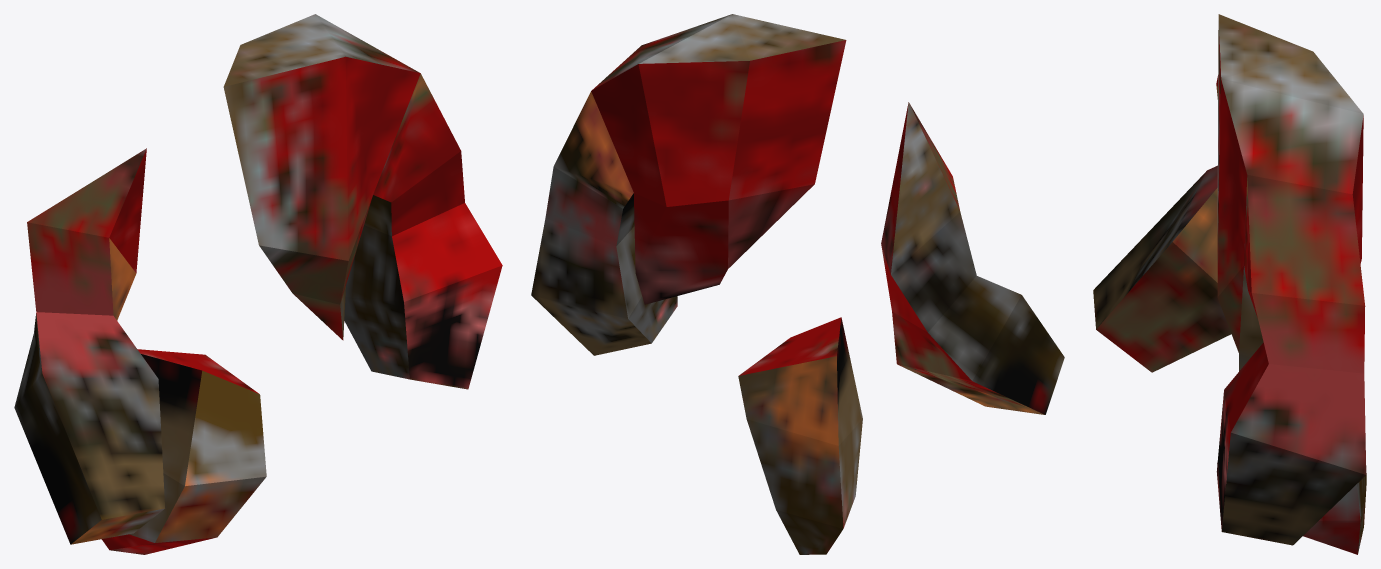
The model's file is GolemGibs.fbx.
3 renders of one model, left to right at view 1: azimuth 30°, elevation 25°; view 2: azimuth 150°, elevation 25°; view 3: azimuth 270°, elevation 25°, orthographic. The views are drawn at different scales.
Visible parts, largest first — view 1: arm2, chest, arm1, leg; view 2: chest, arm2, arm1, leg; view 3: arm1, chest, arm2, leg.
Boxes of the visible parts, <box> form: arm2: <box>14,148,164,544</box>; chest: <box>223,14,420,340</box>; arm1: <box>344,73,502,389</box>; leg: <box>102,349,266,554</box>; chest: <box>591,14,846,304</box>; arm2: <box>881,102,1064,414</box>; arm1: <box>531,91,677,355</box>; leg: <box>738,317,862,554</box>; arm1: <box>1216,175,1366,545</box>; chest: <box>1217,14,1363,371</box>; arm2: <box>1093,75,1231,372</box>; leg: <box>1217,462,1366,554</box>.
Size of the model in its own units: 0.0131 by 0.0136 by 0.00617.
Materials: 1 (1 with a texture image).
